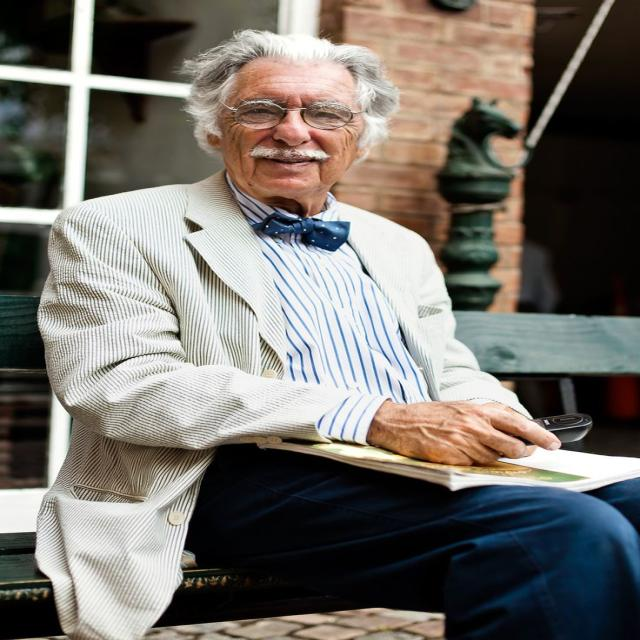idoso sentado: (7, 6, 640, 640)
